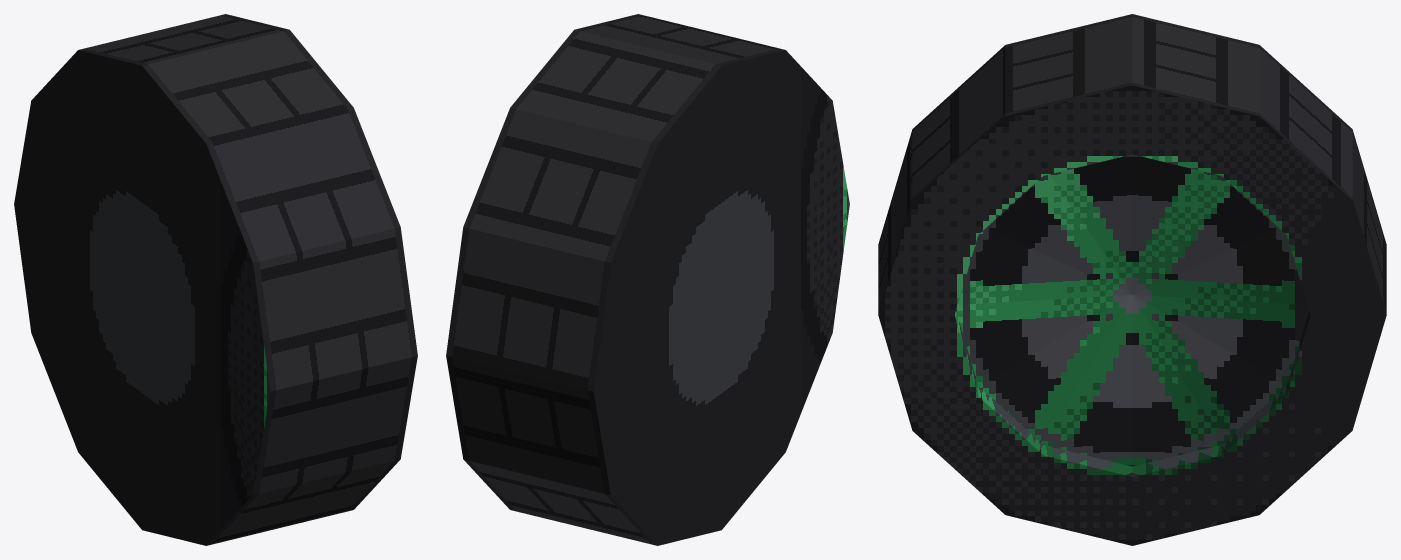
Rendered from wheel_six.glb.
The picture shows the model from 3 angles, left to right: view 1: azimuth 30°, elevation 25°; view 2: azimuth 150°, elevation 25°; view 3: azimuth 270°, elevation 25°; orthographic projection.
Parts seen in each view (by area): view 1: wheel_six; view 2: wheel_six; view 3: wheel_six.
Boxes of the visible parts, box(x1,y1,x2,y2) form: wheel_six: box(14, 14, 417, 545); wheel_six: box(446, 14, 849, 545); wheel_six: box(878, 14, 1386, 545).
Size of the model in its own units: 0.205 by 0.6163 by 0.6163.
Materials: 1 (1 with a texture image).
